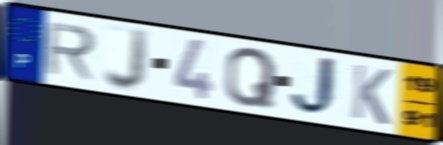4: (171, 36, 215, 104)
J: (288, 55, 343, 118), (102, 26, 152, 93)
K: (349, 61, 394, 128)
Q: (222, 45, 278, 109)
R: (42, 20, 98, 82)
